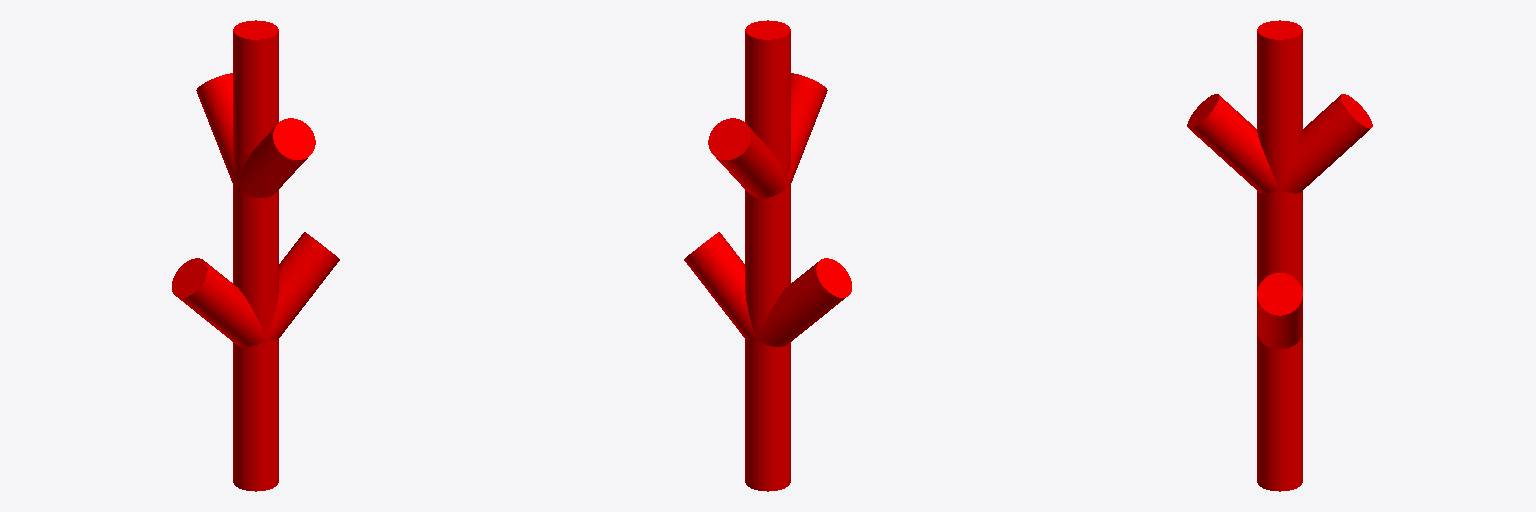
The robot description file, URDF, robot "tree.urdf":
<?xml version="1.0" ?>
<robot name="tree.urdf">
  <link name="baseLink">
    <inertial>
      <origin rpy="0 0 0" xyz="0 0 0"/>
       <mass value=".1"/>
       <inertia ixx="1" ixy="0" ixz="0" iyy="1" iyz="0" izz="1"/>
    </inertial>
    <visual>
      <origin rpy="0 0 0" xyz="0 0 0"/>
      <geometry>
        <mesh filename="8.stl" scale="1 1 1" />
      </geometry>
      <material name="red">
        <color rgba="1 0 0 1"/>
      </material>
    </visual>
    <collision>
      <origin rpy="0 0 0" xyz="0 0 0"/>
      <geometry>
        <mesh filename="8_convex.obj" scale="1 1 1" />
      </geometry>
    </collision>
  </link>
</robot>

--- Facts derived from the render (not from the file) ---
Views: 3 orthographic renders of the robot side by side, from view 1: azimuth 30°, elevation 25°; view 2: azimuth 150°, elevation 25°; view 3: azimuth 270°, elevation 25°.
Model tree.urdf with 1 links and 0 joints (none), rooted at baseLink, posed every joint at zero.
Links seen in each view (by area): view 1: baseLink; view 2: baseLink; view 3: baseLink.
Link boxes in pixels (x1,y1,x2,y2): baseLink: (172,20,339,491); baseLink: (684,20,851,491); baseLink: (1187,20,1372,491).
Bounding box of the posed robot: 0.2162 × 0.2162 × 0.5809 m (x, y, z).
1 mesh visuals loaded from 1 distinct referenced files (1 binary STL).